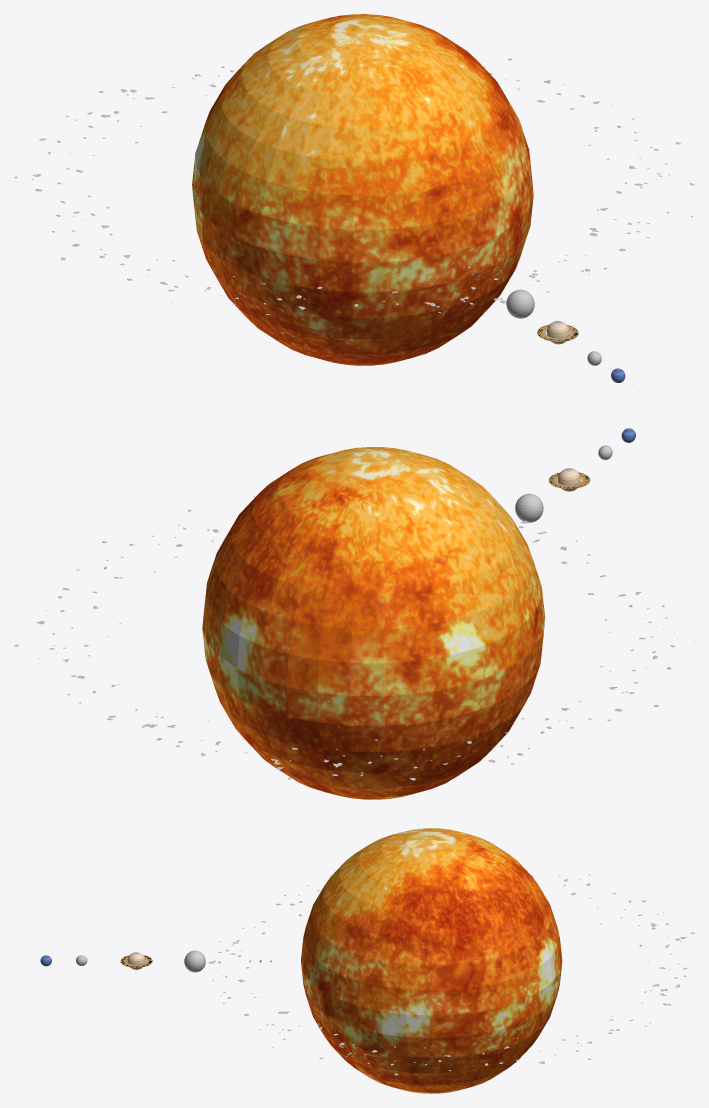
File: mmm.fbx
3 views of the same model, one above another, from view 1: azimuth 30°, elevation 25°; view 2: azimuth 150°, elevation 25°; view 3: azimuth 270°, elevation 25° (orthographic). The views are drawn at different scales.
Parts seen in each view (by area): view 1: Sun, asteroidi3_Roundcube.003, Jupiter; view 2: Sun, asteroidi3_Roundcube.003, Jupiter; view 3: Sun, asteroidi3_Roundcube.003.
Boxes of the visible parts, x1,y1,x2,y2 form: Sun: (192, 14, 533, 365); asteroidi3_Roundcube.003: (14, 58, 694, 315); Jupiter: (506, 289, 534, 318); Sun: (202, 447, 545, 799); asteroidi3_Roundcube.003: (14, 495, 694, 780); Jupiter: (515, 493, 543, 522); Sun: (301, 828, 562, 1093); asteroidi3_Roundcube.003: (208, 869, 694, 1075).
Bounding box in the file's own units: 135032 × 70301 × 178972.
